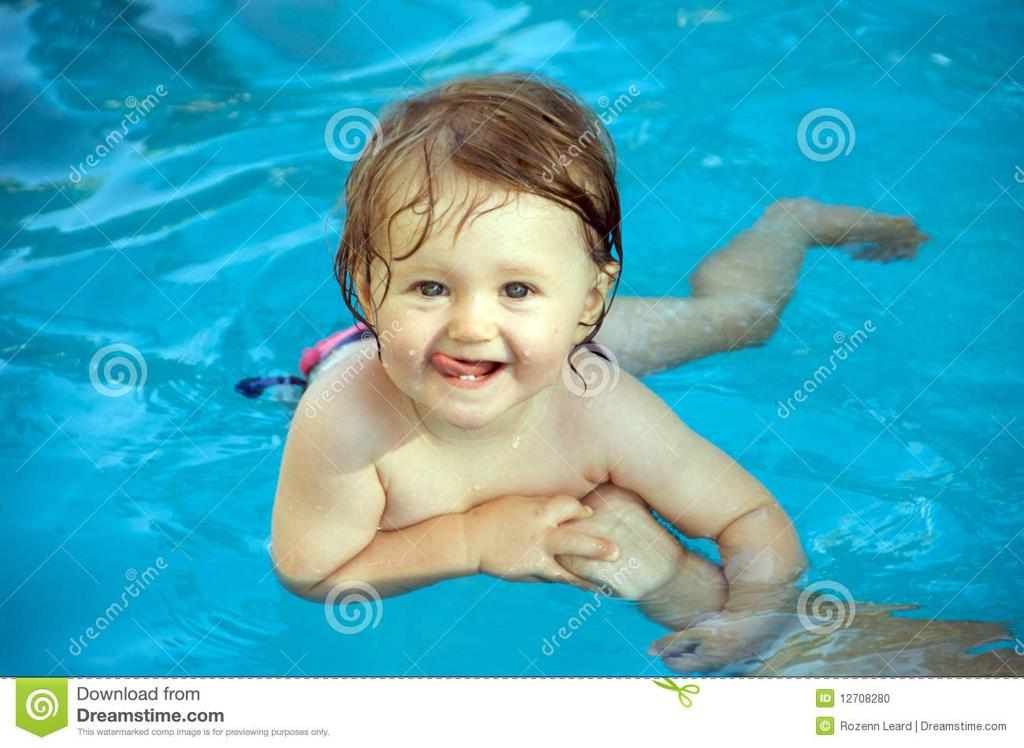face: (376, 200, 586, 410)
